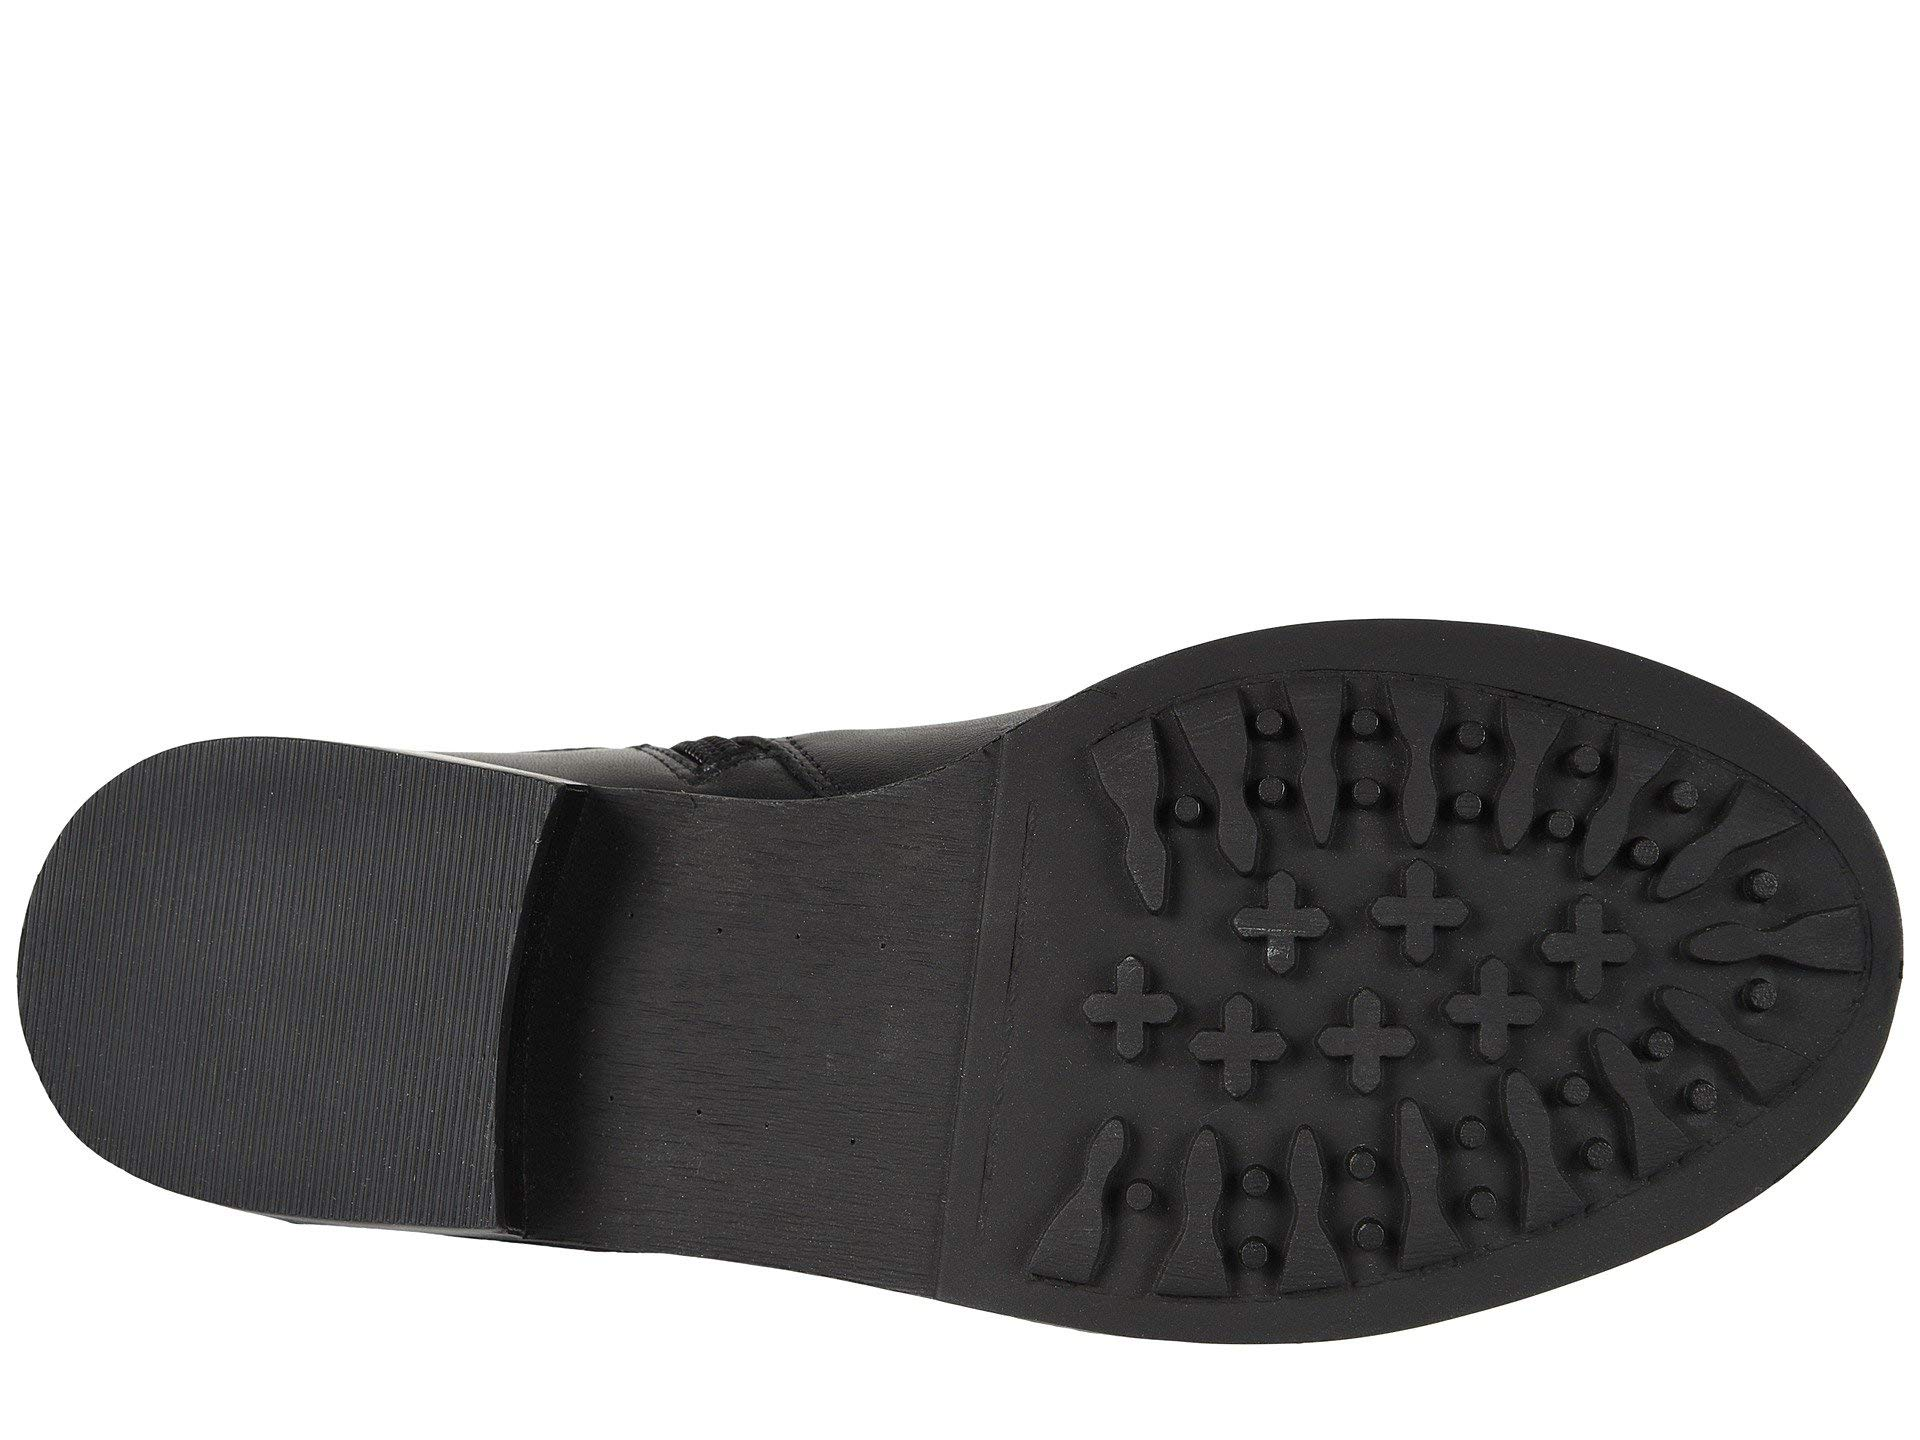bowtie: (1079, 1085, 1503, 1299), (1212, 675, 1479, 877)
circle: (1079, 1085, 1503, 1299), (1212, 675, 1479, 877)
line: (129, 781, 479, 1203)
star: (1016, 880, 1652, 1060)
